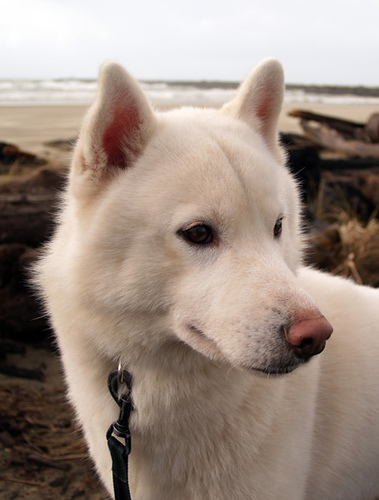dog: (25, 61, 377, 498)
